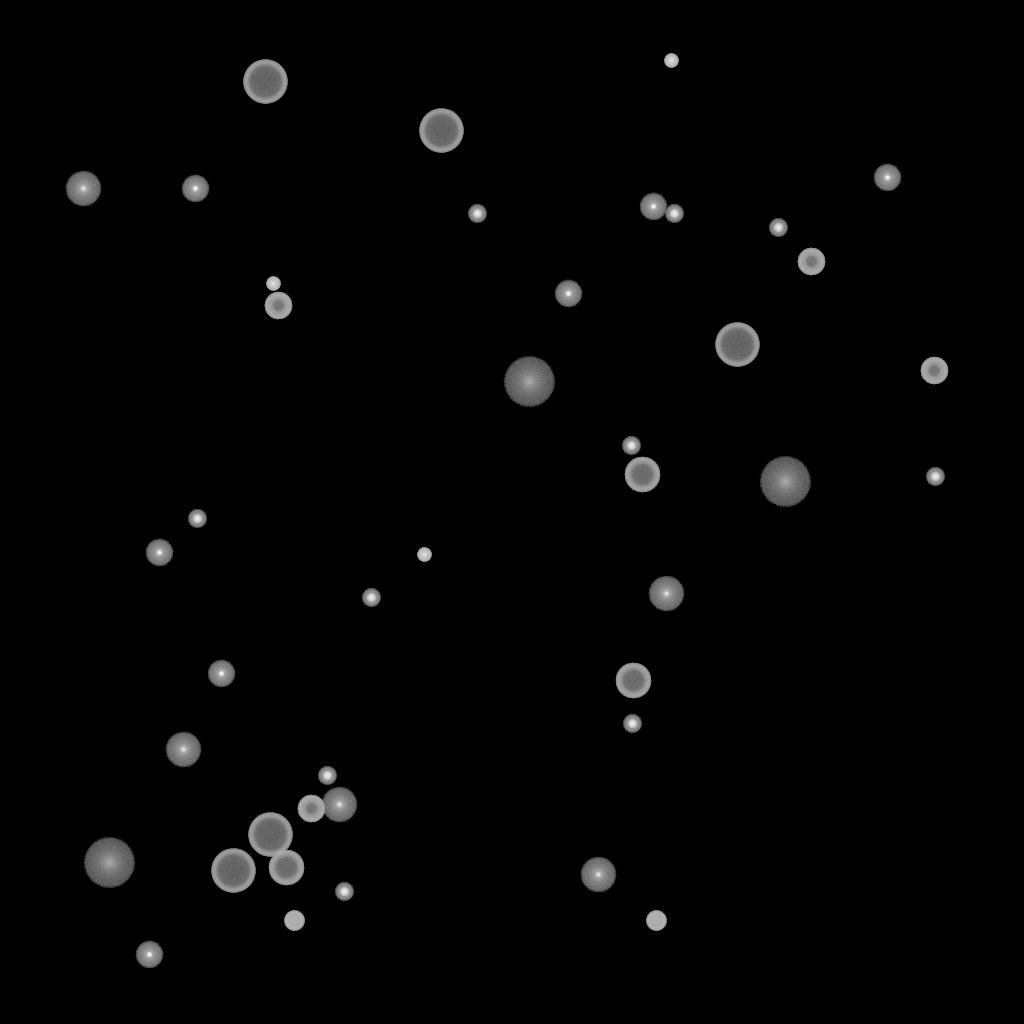depth:-10: (181, 175, 209, 203), (873, 164, 901, 192), (207, 660, 235, 688), (135, 941, 163, 969), (145, 539, 173, 567), (554, 280, 582, 308), (639, 193, 667, 221)
depth:-20: (468, 205, 486, 223), (362, 589, 380, 607), (335, 883, 353, 901), (769, 219, 787, 237), (623, 715, 641, 733), (318, 767, 336, 785), (188, 510, 206, 528), (926, 468, 944, 486), (665, 205, 683, 223), (622, 437, 640, 455)
depth:-30: (664, 54, 678, 68), (417, 548, 431, 562), (266, 277, 280, 291)
depth:-40: (646, 911, 666, 931), (284, 911, 304, 931)
depth:-50: (264, 292, 292, 320), (797, 248, 825, 276), (297, 795, 325, 823), (920, 357, 948, 385)
depth:-60: (615, 663, 651, 699), (624, 457, 660, 493), (268, 850, 304, 886)
depth:-70: (715, 323, 759, 367), (243, 60, 287, 104), (248, 813, 292, 857), (419, 109, 463, 153), (211, 849, 255, 893)
depth:0: (580, 857, 616, 893), (65, 171, 101, 207), (321, 787, 357, 823), (165, 732, 201, 768), (648, 576, 684, 612)
depth:20: (503, 357, 555, 407), (83, 838, 135, 888), (759, 457, 811, 507)
